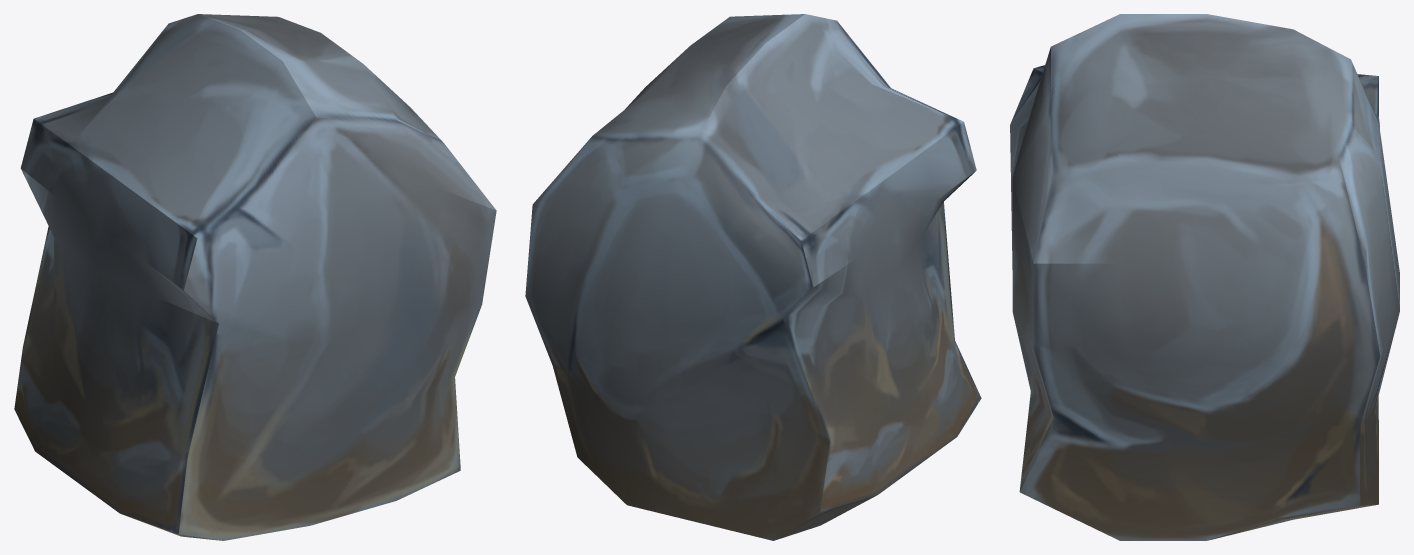
File: SM_rock5.fbx
3 renders of one model, left to right at view 1: azimuth 30°, elevation 25°; view 2: azimuth 150°, elevation 25°; view 3: azimuth 270°, elevation 25°, orthographic. The views are drawn at different scales.
Parts seen in each view (by area): view 1: rock5; view 2: rock5; view 3: rock5.
Boxes of the visible parts, box(x1,y1,x2,y2) form: rock5: box(14, 14, 496, 540); rock5: box(525, 14, 981, 540); rock5: box(1010, 14, 1399, 540).
Bounding box in the file's own units: 204 × 257 × 191.
